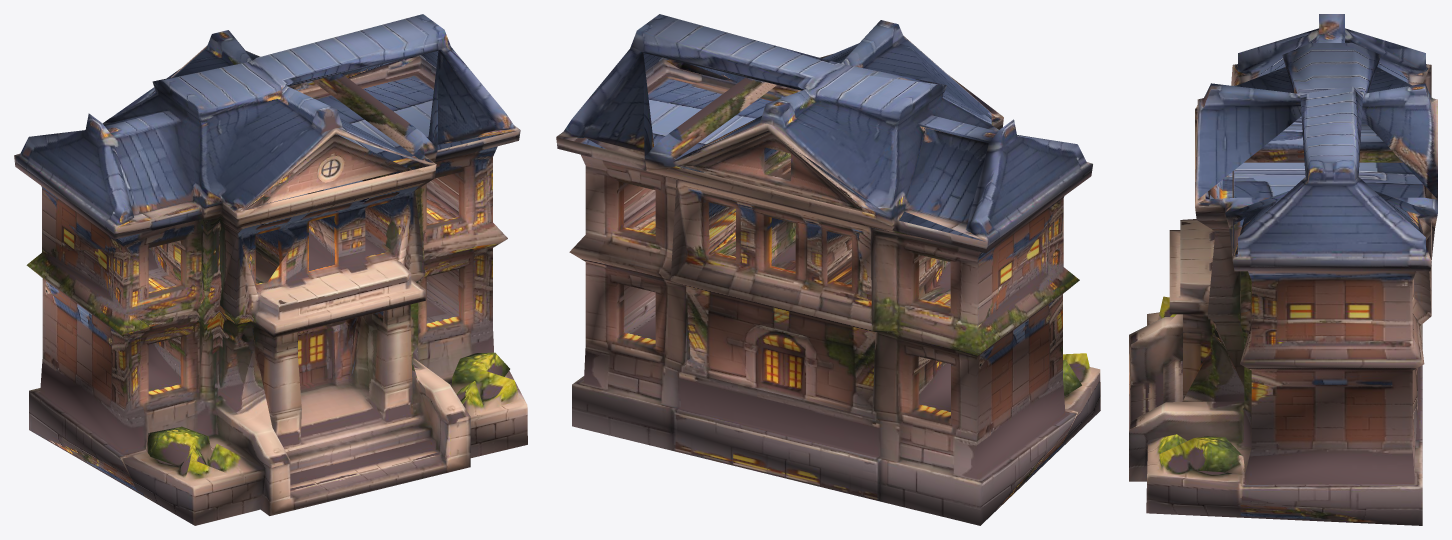
Rendered from 07-school.fbx.
3 views of the same model, side by side, from view 1: azimuth 30°, elevation 25°; view 2: azimuth 150°, elevation 25°; view 3: azimuth 270°, elevation 25° (orthographic). The views are drawn at different scales.
Visible parts, largest first — view 1: tripo_node_8f8879dd; view 2: tripo_node_8f8879dd; view 3: tripo_node_8f8879dd.
Boxes of the visible parts, left/top/right/bottom form: tripo_node_8f8879dd: left=14, top=14, right=527, bottom=525; tripo_node_8f8879dd: left=556, top=14, right=1100, bottom=525; tripo_node_8f8879dd: left=1129, top=14, right=1437, bottom=525.
Size of the model in its own units: 1200 by 1000 by 800.
Materials: 1 (1 with a texture image).
